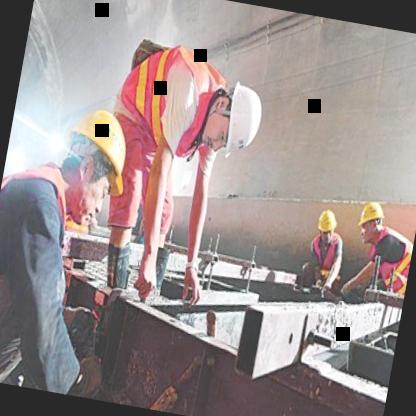helmet: (52, 96, 140, 230), (199, 76, 270, 162), (352, 196, 390, 250), (312, 204, 340, 244)
